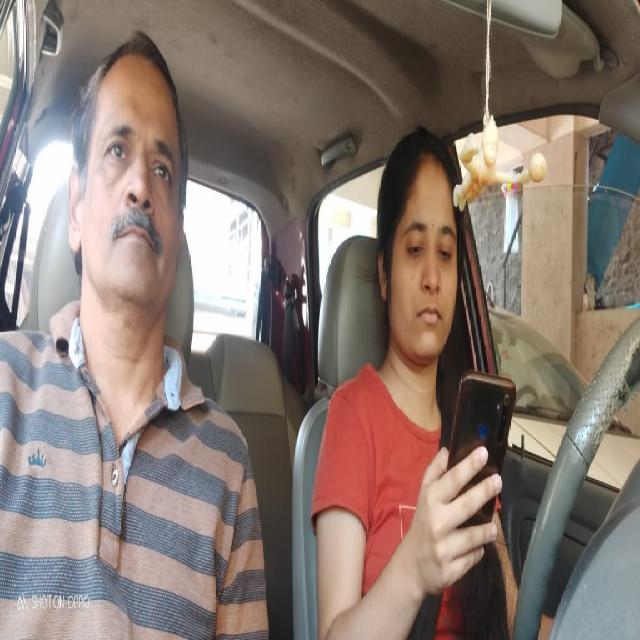mobile: (450, 363, 520, 550)
person: (65, 29, 187, 338), (376, 121, 467, 363)
